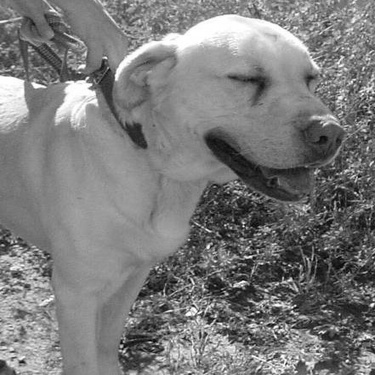dog: (5, 15, 353, 373)
